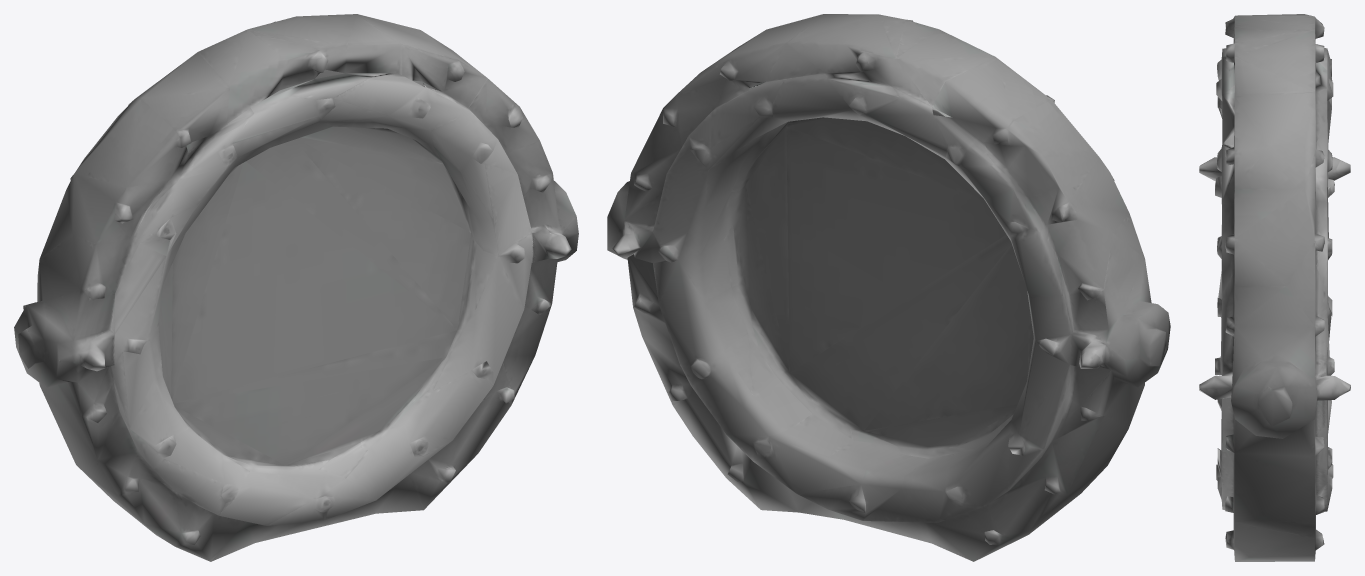
3 views of the same model, side by side, from view 1: azimuth 30°, elevation 25°; view 2: azimuth 150°, elevation 25°; view 3: azimuth 270°, elevation 25° (orthographic). The views are drawn at different scales.
Bounding box in the file's own units: 1.9 × 1.63 × 0.4776.
Materials: 1 (1 with a texture image).
